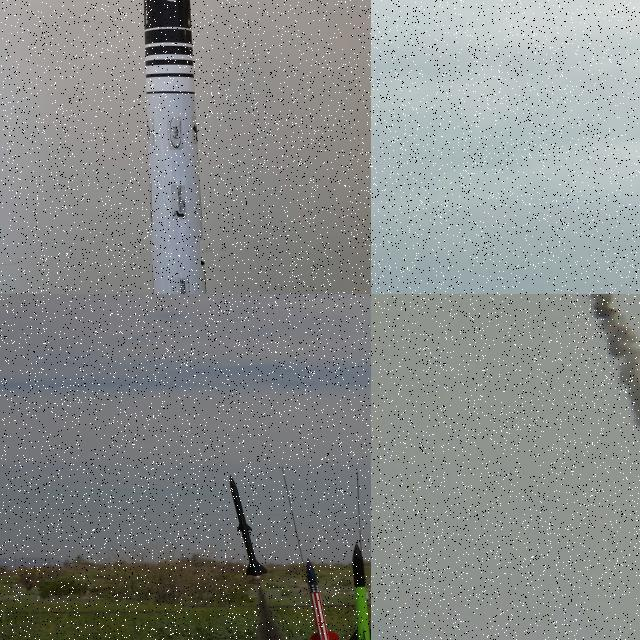Rocket: (144, 0, 207, 294), (228, 474, 270, 578), (305, 558, 341, 640), (345, 542, 371, 640)
